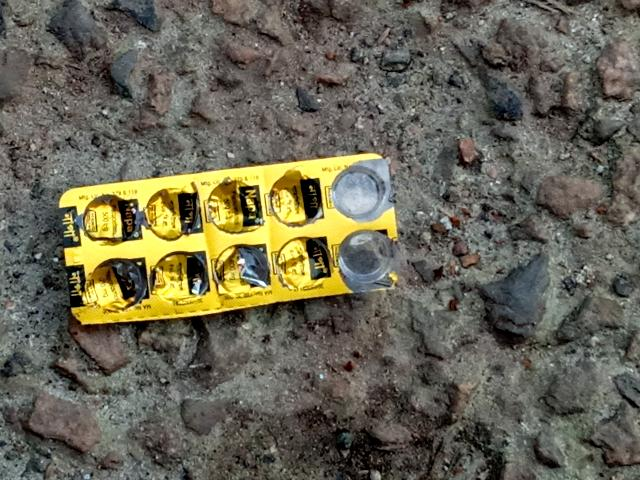medicine: (52, 136, 412, 332)
